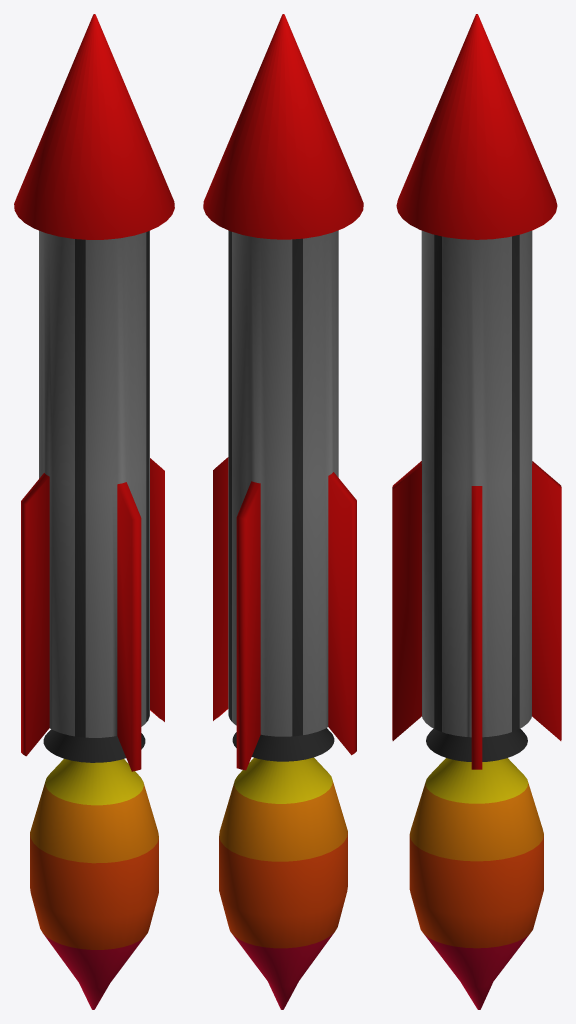
Rendered from Rocket.fbx.
3 views of the same model, side by side, from view 1: azimuth 30°, elevation 25°; view 2: azimuth 150°, elevation 25°; view 3: azimuth 270°, elevation 25° (orthographic).
Visible parts, largest first — view 1: Cylinder; view 2: Cylinder; view 3: Cylinder.
Part boxes in pixels (x1,y1,x2,y2): Cylinder: (14,14,174,1009); Cylinder: (203,14,363,1009); Cylinder: (392,14,561,1009).
Size of the model in its own units: 0.5869 by 3.96 by 0.6107.
